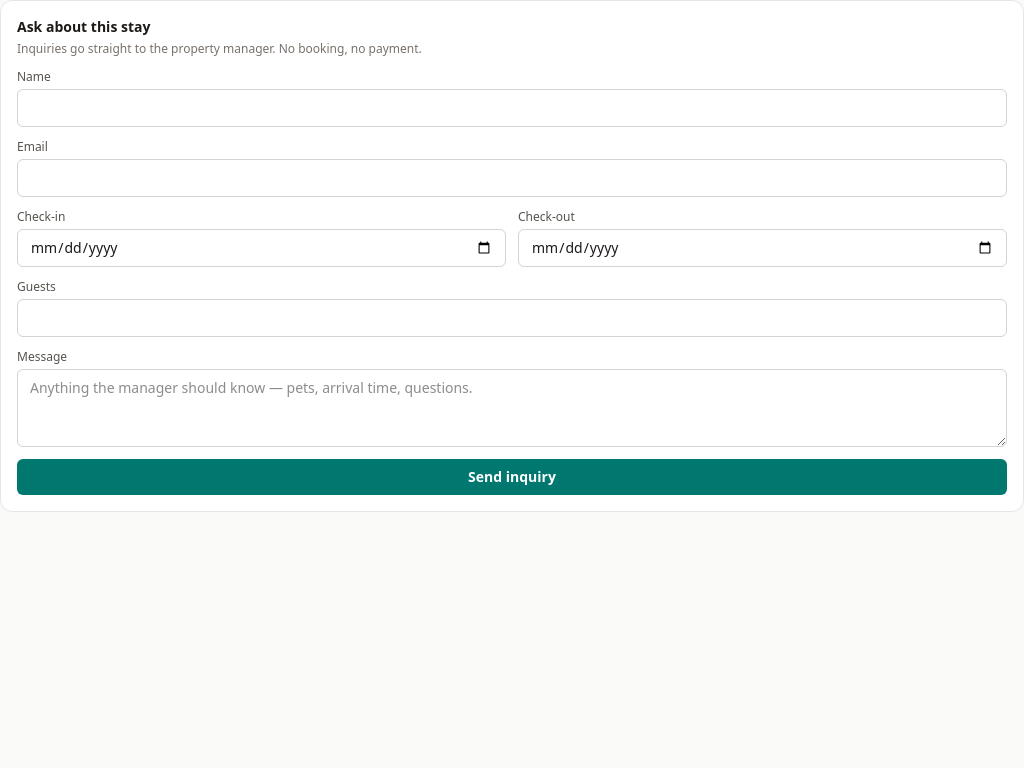
InquiryForm › shows friendly inline errors when name and email are missing
Click the button "Send inquiry".
click(512, 477)  # box x1=17 y1=459 x2=1007 y2=495
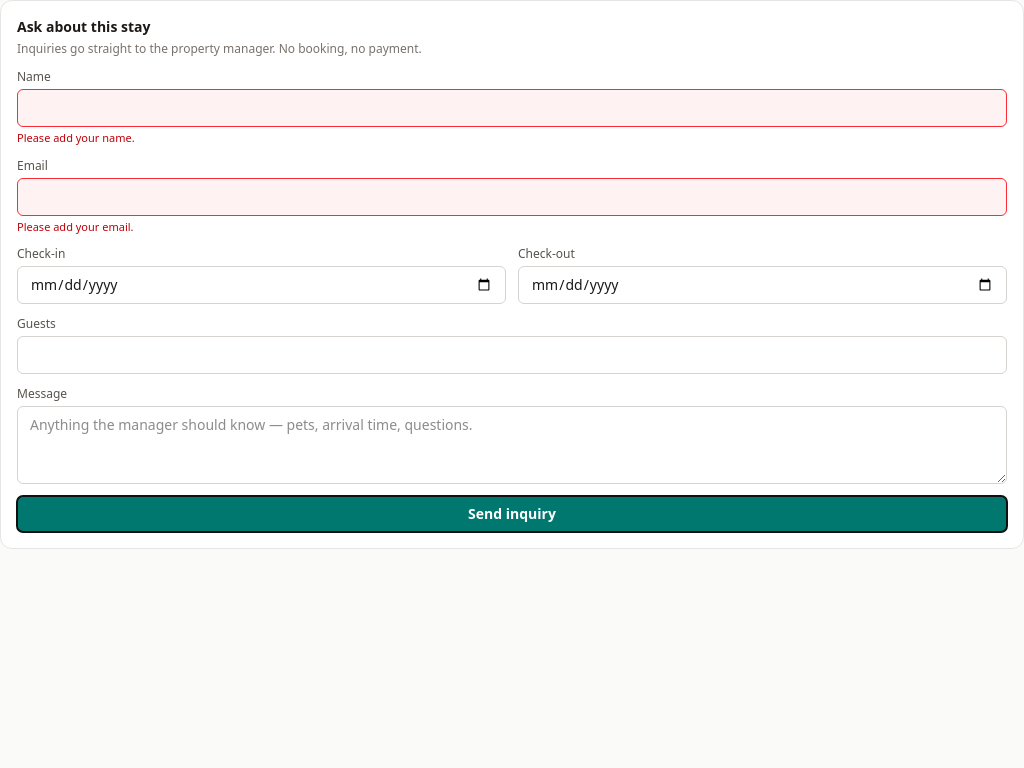
Expected: the text "Please add your name." is shown, x1=17 y1=130 x2=135 y2=145
Expected: the text "Please add your email." is shown, x1=17 y1=219 x2=134 y2=234
